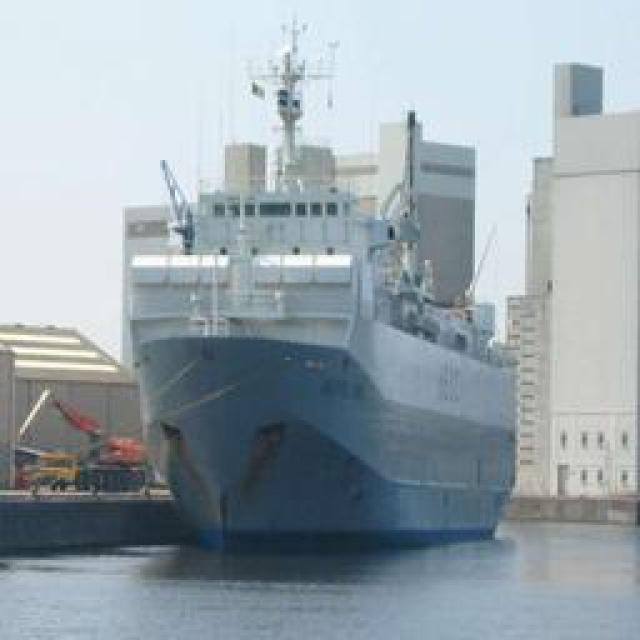Ship: (77, 15, 525, 553)
